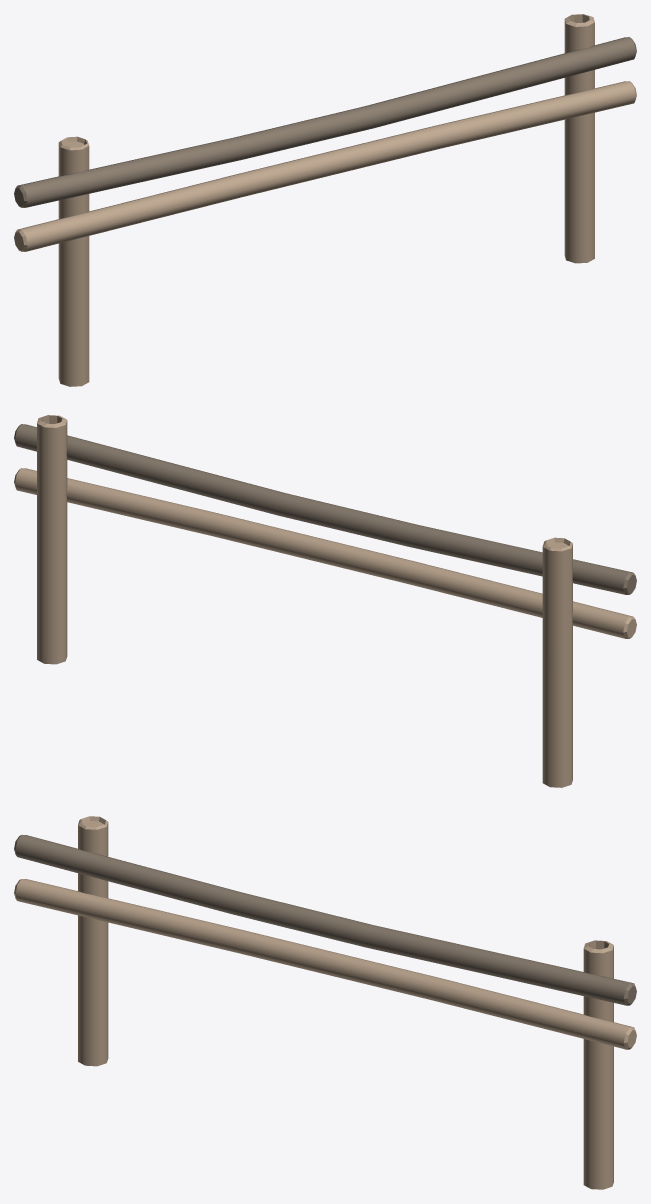
The model's file is SM_fence_wd_02.fbx.
3 views of the same model, one above another, from view 1: azimuth 30°, elevation 25°; view 2: azimuth 150°, elevation 25°; view 3: azimuth 330°, elevation 25° (orthographic).
Parts seen in each view (by area): view 1: fence_wd_02; view 2: fence_wd_02; view 3: fence_wd_02.
Part boxes in pixels (<box>): fence_wd_02: <box>14,14,636,386</box>; fence_wd_02: <box>14,415,636,787</box>; fence_wd_02: <box>14,816,636,1189</box>.
Bounding box in the file's own units: 344 × 128 × 22.98.
